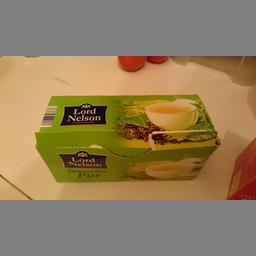tea: (33, 92, 222, 182)
